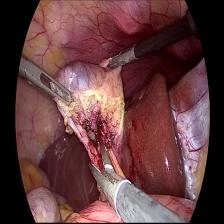Grasper: (85, 140, 130, 210), (19, 55, 72, 111), (100, 43, 138, 70)
